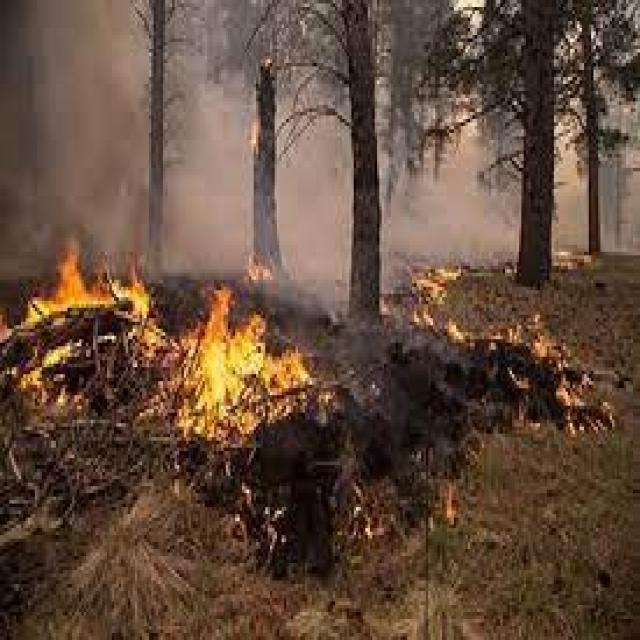Fire: (162, 236, 336, 454), (2, 225, 159, 430), (511, 306, 613, 442), (401, 258, 472, 352), (424, 476, 477, 544)
Smoke: (0, 0, 144, 272), (174, 90, 243, 298), (290, 140, 342, 347), (394, 190, 514, 255)
